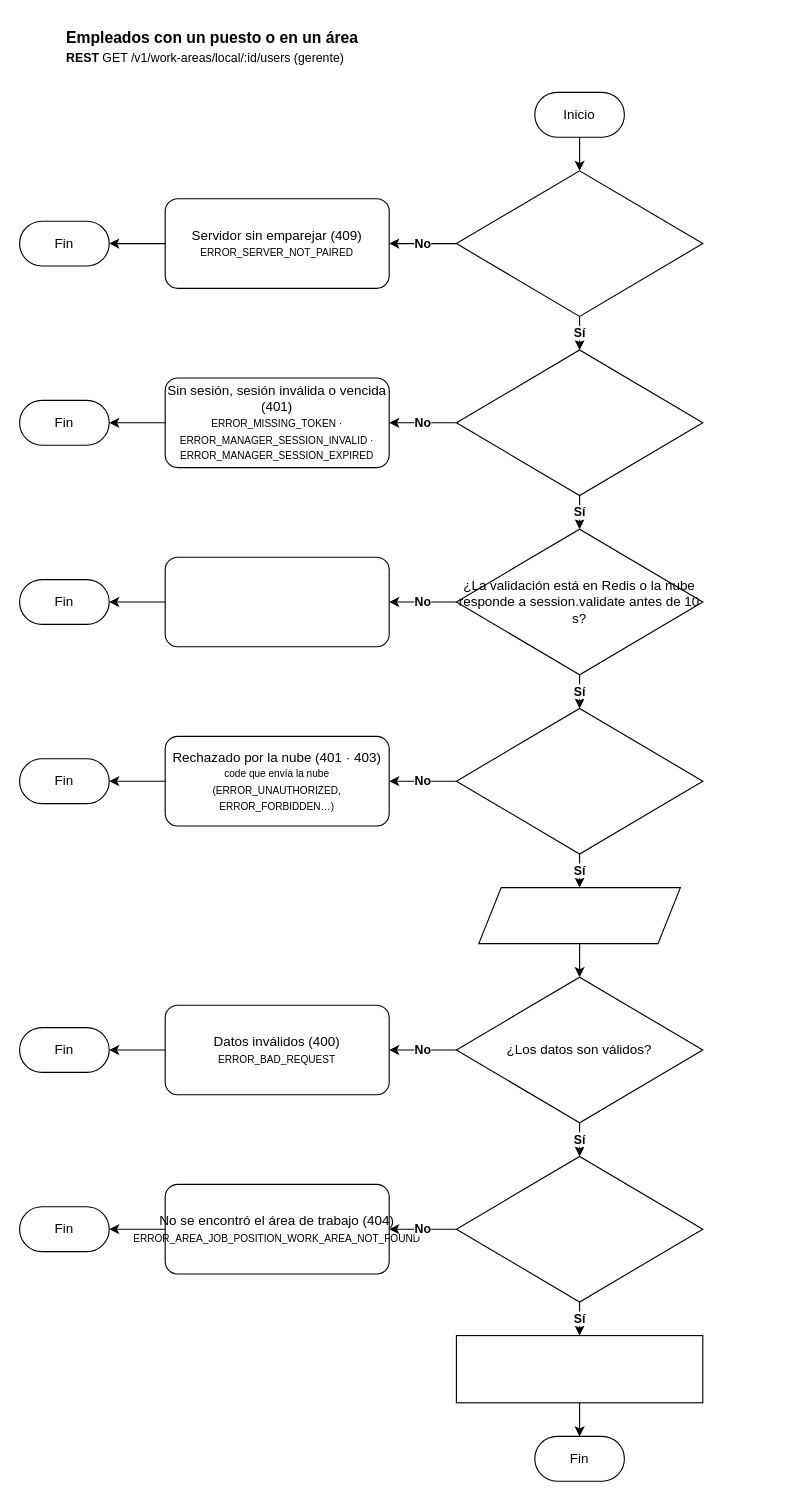
This 801x1501 diagram has some shape labels left out. The shapes that lost their labels are listed below. From the top down, each one's centre as x and y in pixels, then its label:
At (579,243): "¿El servidor ya se emparejó alguna vez (pairing_status distinto de unpaired)?".
At (579,422): "¿Trae una sesión de gerente válida (Bearer mss_..., sin 30 min de inactividad)?".
At (276,601): "La nube no responde (503) ERROR_CLOUD_UNAVAILABLE · ERROR_SERVER_UNLINKED".
At (579,780): "¿La nube acepta la sesión del gerente con este servidor?".
At (579,915): "Recibir datos".
At (579,1228): "¿Existe el área de trabajo?".
At (579,1368): "Responder 200 con el mensaje USERS_RETRIEVED".
